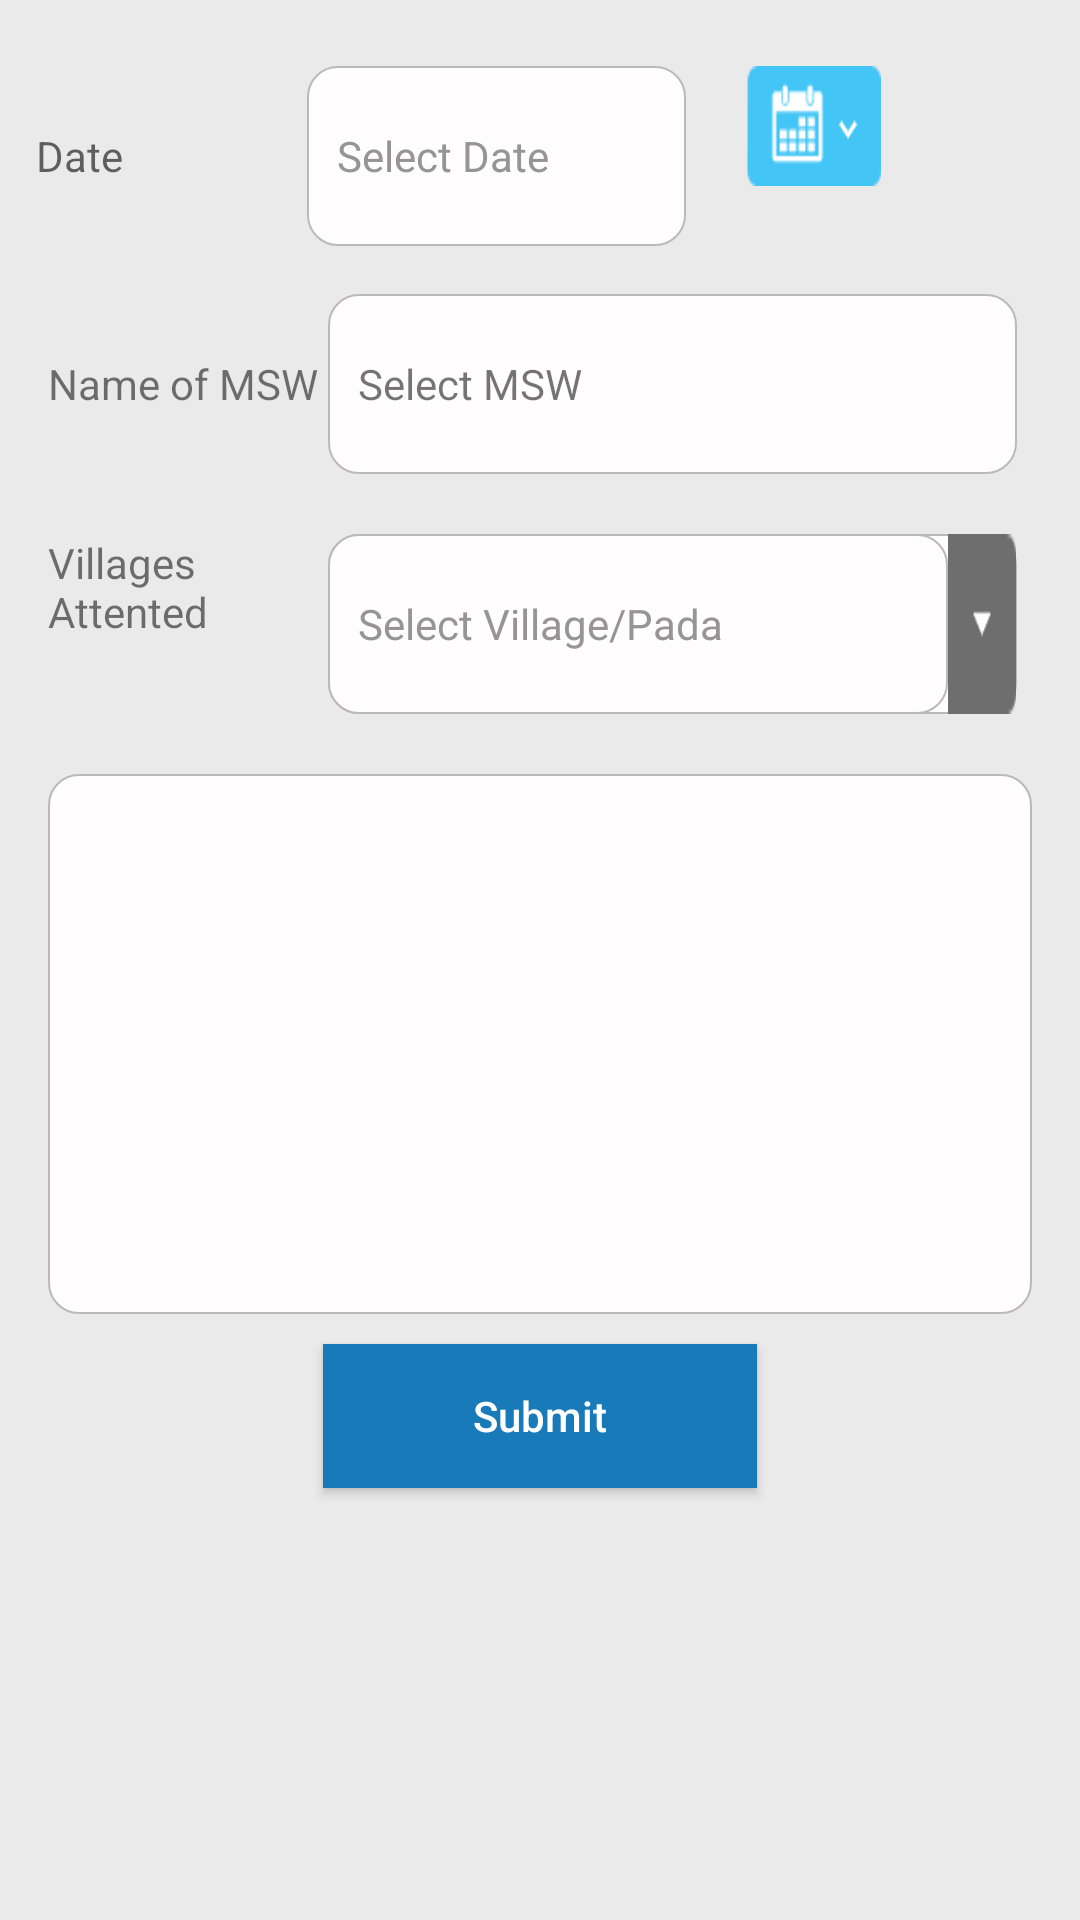

Icon bounding boxes for this 1080x1920 phone screenshot, format (x1,y1,x2,y2):
calendar: (747,66,881,186)
dropdown arrow: (948,534,1016,714)
